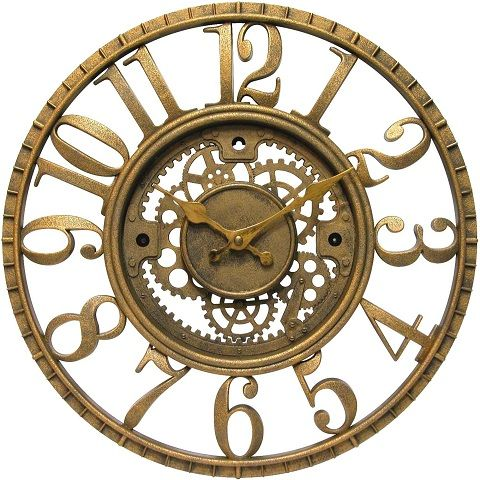clock: (2, 1, 478, 476)
